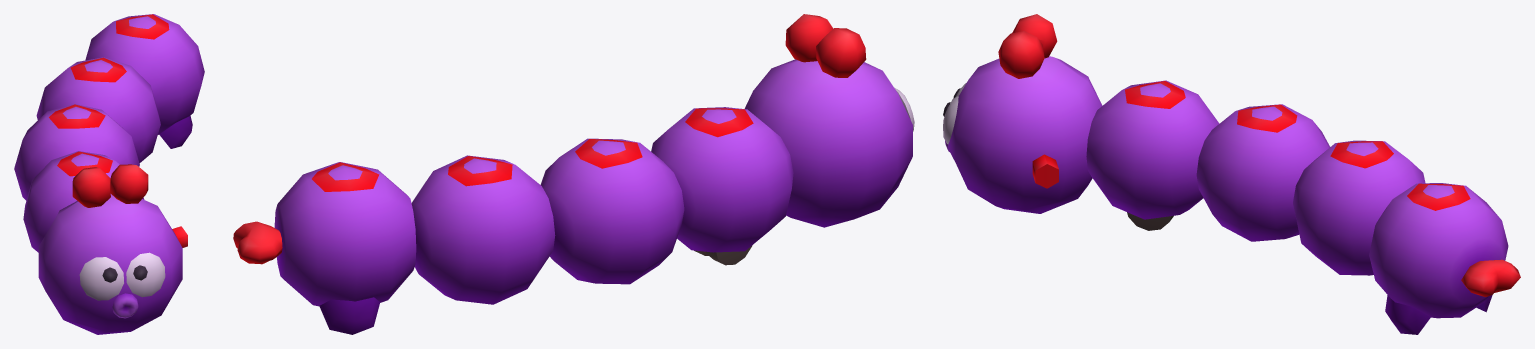
The model's file is Caterpillar.fbx.
3 renders of one model, left to right at view 1: azimuth 30°, elevation 25°; view 2: azimuth 150°, elevation 25°; view 3: azimuth 270°, elevation 25°, orthographic. The views are drawn at different scales.
Parts seen in each view (by area): view 1: Caterpillar; view 2: Caterpillar; view 3: Caterpillar.
Boxes of the visible parts, x1,y1,x2,y2 form: Caterpillar: [14, 14, 204, 334]; Caterpillar: [233, 14, 914, 334]; Caterpillar: [943, 14, 1520, 334].
Size of the model in its own units: 2617 by 1141 by 3340.
Materials: 1 (1 with a texture image).
